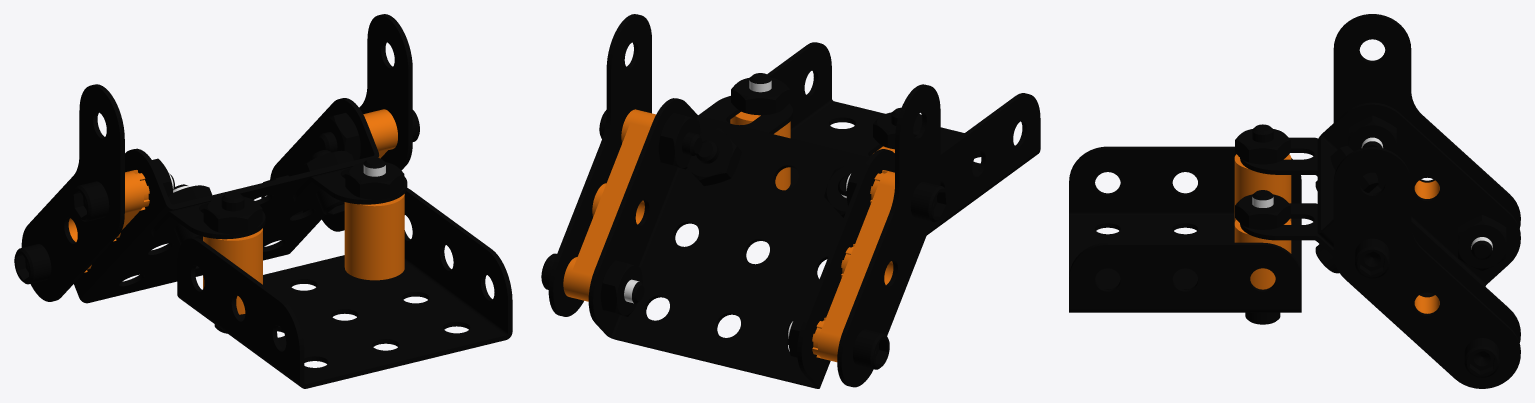
3 renders of one model, left to right at view 1: azimuth 30°, elevation 25°; view 2: azimuth 150°, elevation 25°; view 3: azimuth 270°, elevation 25°, orthographic. The views are drawn at different scales.
Parts seen in each view (by area): view 1: polished nickel, matte zinc, white-pw-mt11050-2, white-pw-mt11050, Cosmetic Thread; view 2: polished nickel, matte zinc, white-pw-mt11050, white-pw-mt11050-2, (No material); view 3: polished nickel, matte zinc, white-pw-mt11050-2, white-pw-mt11050.
Boxes of the visible parts, <box> form: polished nickel: <box>74,98,512,388</box>; matte zinc: <box>14,14,419,333</box>; white-pw-mt11050-2: <box>203,194,404,314</box>; white-pw-mt11050: <box>68,109,397,272</box>; Cosmetic Thread: <box>221,132,337,211</box>; polished nickel: <box>588,42,1040,388</box>; matte zinc: <box>541,14,947,387</box>; white-pw-mt11050: <box>563,109,894,362</box>; white-pw-mt11050-2: <box>730,111,894,190</box>; (No material): <box>624,80,850,338</box>; polished nickel: <box>1069,102,1520,342</box>; matte zinc: <box>1235,14,1520,388</box>; white-pw-mt11050-2: <box>1234,154,1291,289</box>; white-pw-mt11050: <box>1414,180,1439,313</box>.
Bounding box in the file's own units: 5.94 × 4.6 × 7.4.
